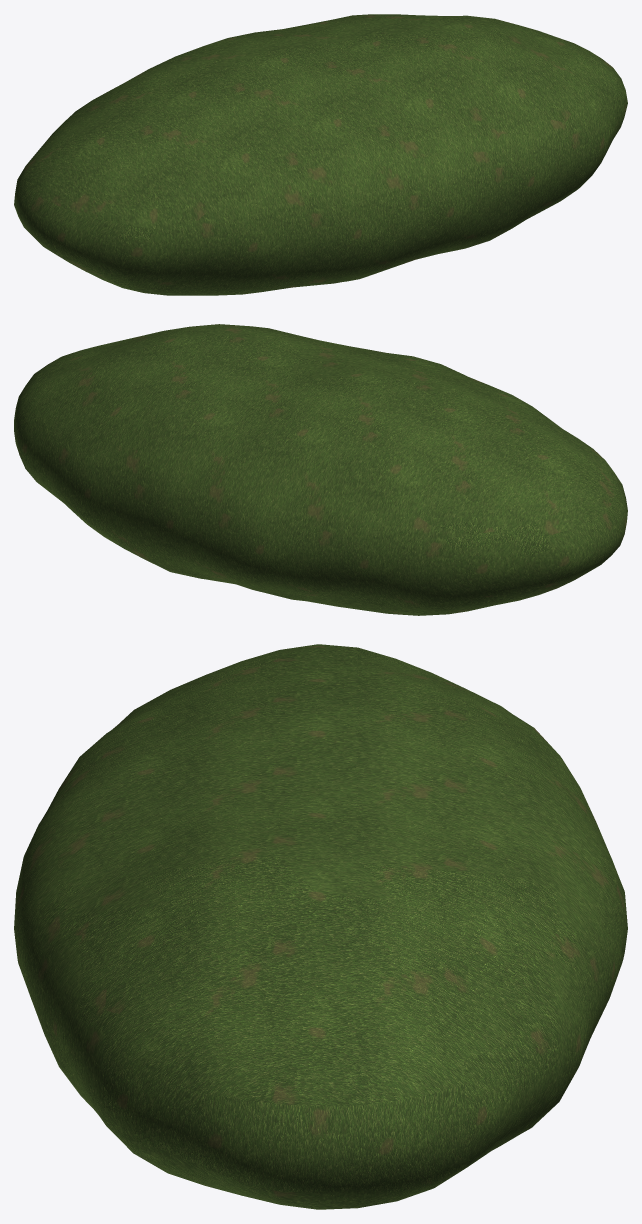
The model's file is prop_hill.fbx.
The picture shows the model from 3 angles, top to bottom: view 1: azimuth 30°, elevation 25°; view 2: azimuth 150°, elevation 25°; view 3: azimuth 270°, elevation 25°; orthographic projection. The views are drawn at different scales.
Parts seen in each view (by area): view 1: prop_hill; view 2: prop_hill; view 3: prop_hill.
Boxes of the visible parts, bbox=[...] form: prop_hill: bbox=[14, 14, 627, 295]; prop_hill: bbox=[14, 324, 627, 615]; prop_hill: bbox=[14, 644, 627, 1209].
Bounding box in the file's own units: 18.08 × 6.18 × 10.24.
